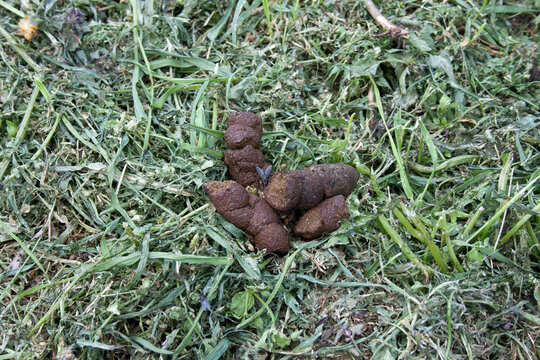Dog: (212, 114, 349, 237)
